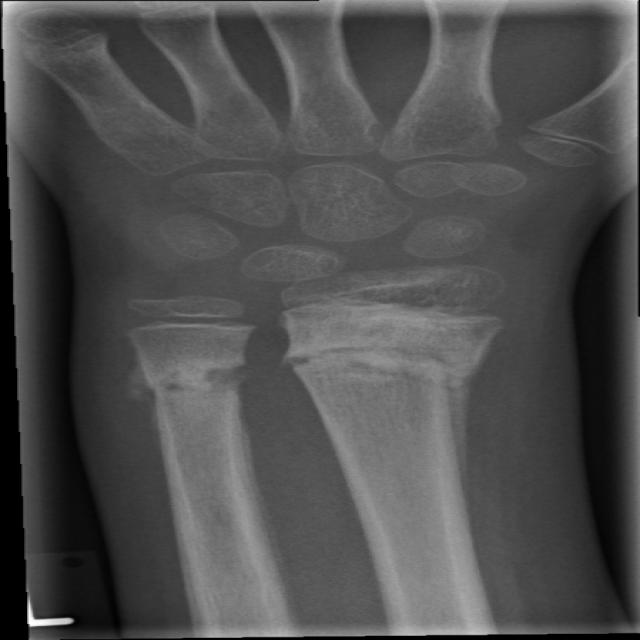radius fracture: (272, 316, 511, 498)
ulna fracture: (106, 336, 267, 472)
